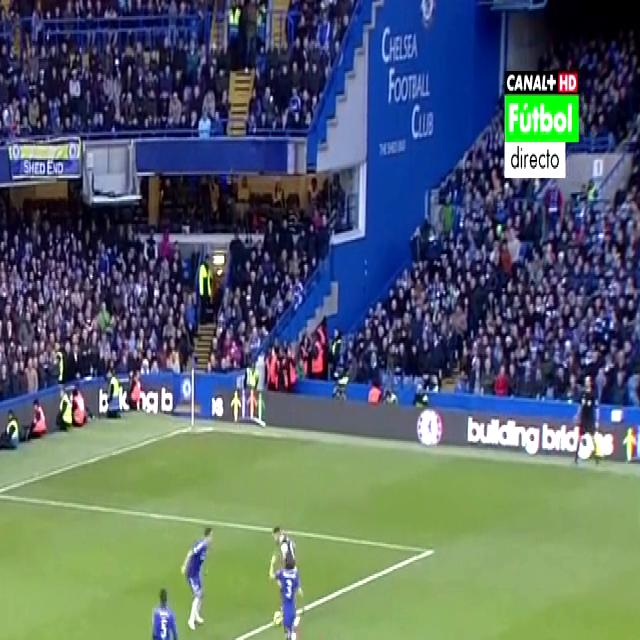ball: (270, 604, 286, 633)
referee: (568, 368, 604, 473)
soccer-player: (179, 514, 221, 636), (269, 540, 306, 640), (143, 579, 181, 640), (314, 631, 378, 640), (0, 613, 8, 640)
